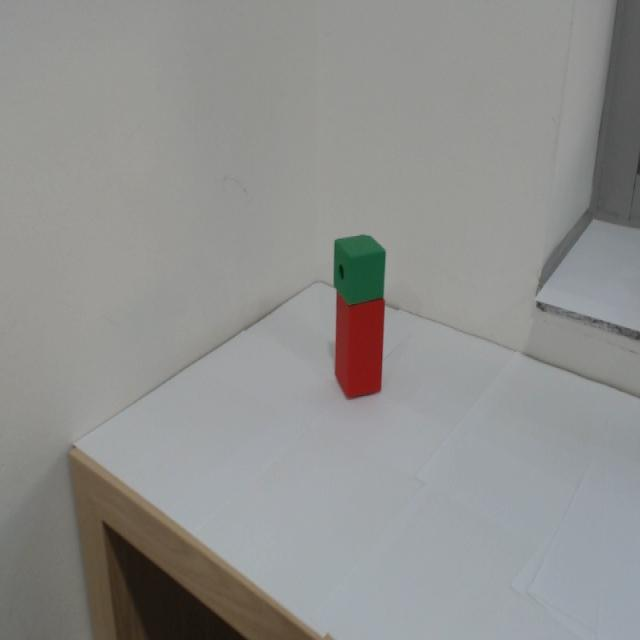cube: (328, 227, 393, 305)
